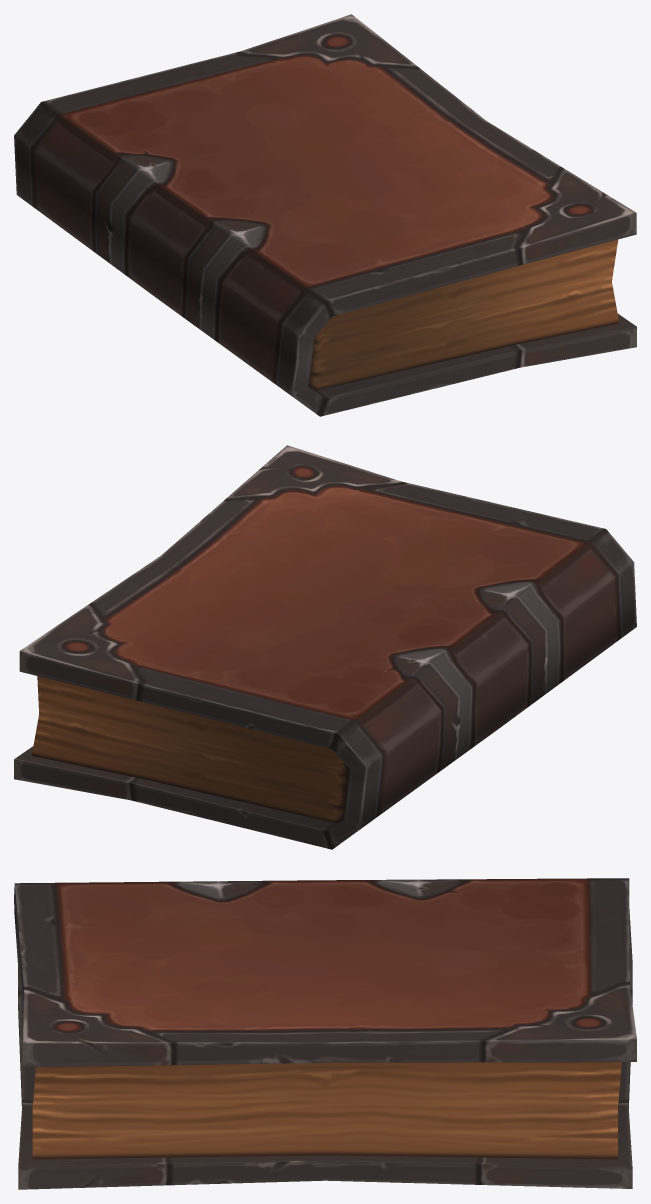
Rendered from Book_4.FBX.
The picture shows the model from 3 angles, top to bottom: view 1: azimuth 30°, elevation 25°; view 2: azimuth 150°, elevation 25°; view 3: azimuth 270°, elevation 25°; orthographic projection. The views are drawn at different scales.
Parts seen in each view (by area): view 1: Book_4; view 2: Book_4; view 3: Book_4.
Part boxes in pixels (box(x1,y1,x2,y2)): Book_4: box(14, 14, 636, 416); Book_4: box(14, 445, 636, 849); Book_4: box(14, 878, 636, 1189).
Bounding box in the file's own units: 285 × 103 × 393.
